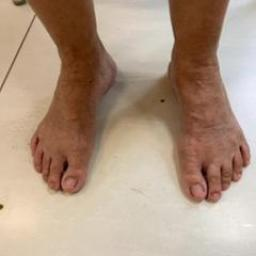Dorsal View -Both Feet-: (14, 22, 252, 212)
